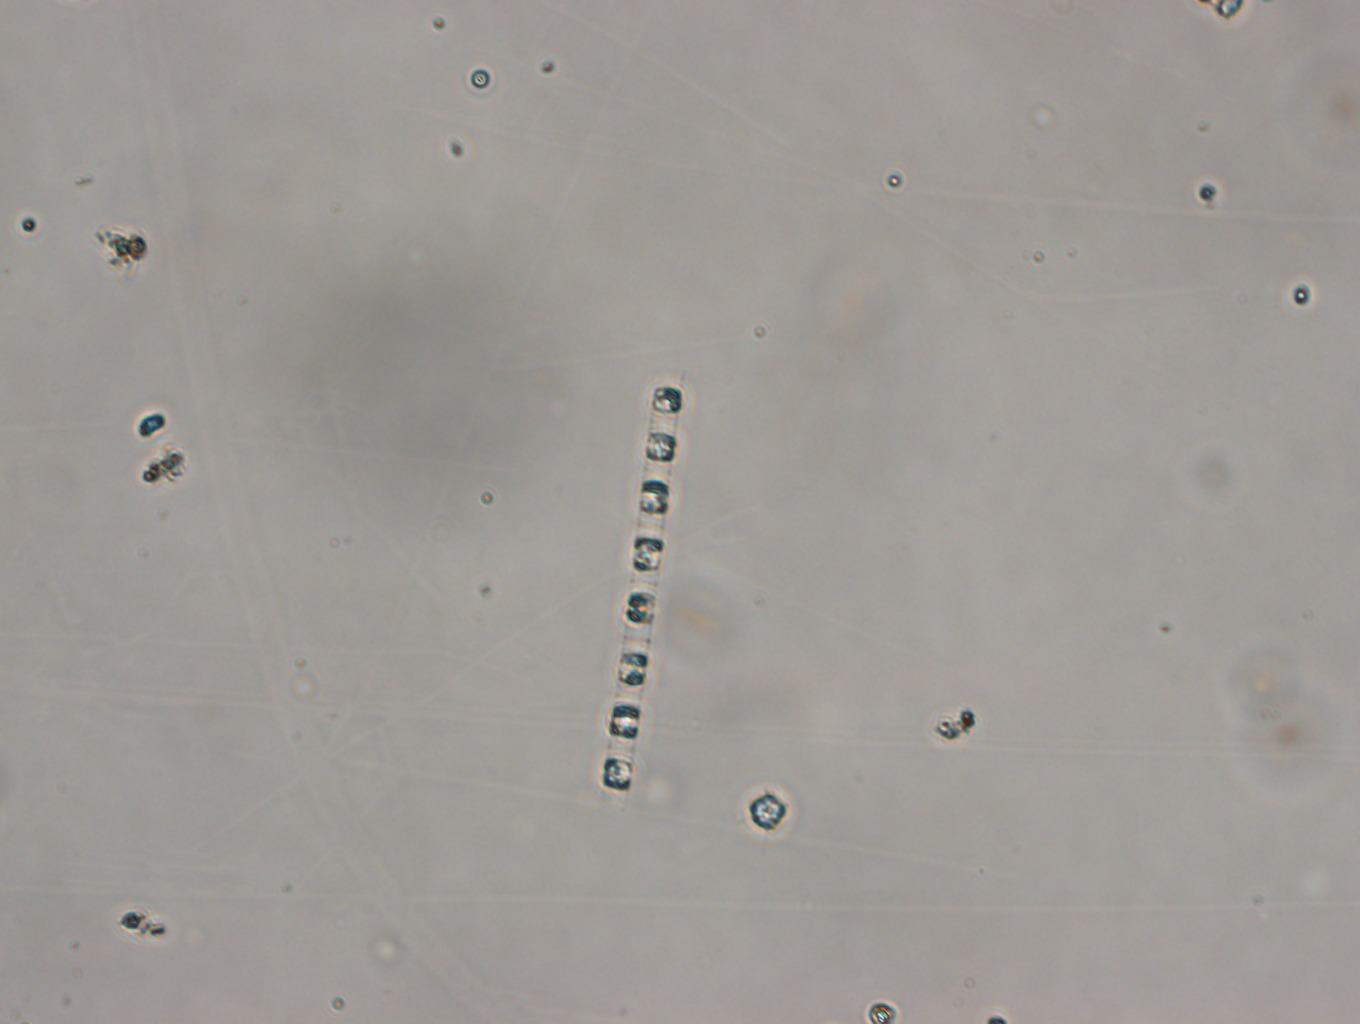skeletonema: (600, 376, 686, 799)
